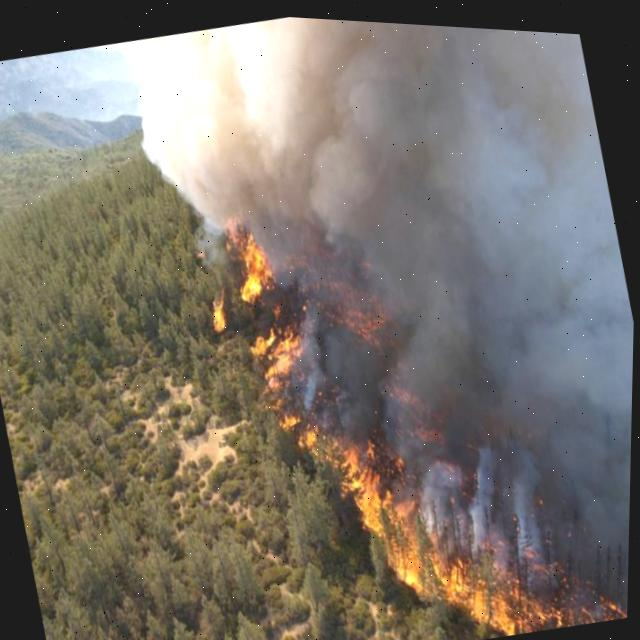fire: (226, 215, 630, 631)
smoke: (132, 13, 635, 591)
